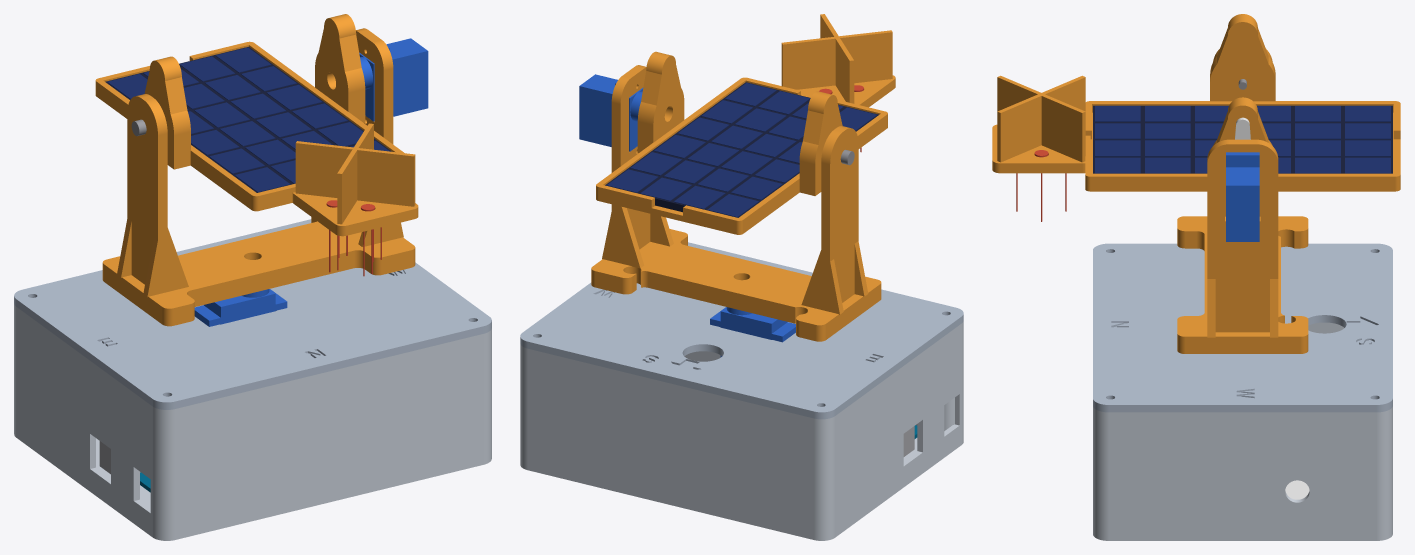
File: solar_tracker_FULL_ASSEMBLY.glb
3 views of the same model, side by side, from view 1: azimuth 30°, elevation 25°; view 2: azimuth 150°, elevation 25°; view 3: azimuth 270°, elevation 25° (orthographic). The views are drawn at different scales.
Parts seen in each view (by area): view 1: 1_base_box, 2_base_lid, 3_yoke, 4_panel_frame, solar_cells, servo_tilt_SG90, solar_panel, servo_pan_SG90; view 2: 1_base_box, 2_base_lid, 3_yoke, 4_panel_frame, solar_cells, solar_panel, servo_tilt_SG90, servo_pan_SG90; view 3: 2_base_lid, 1_base_box, 4_panel_frame, 3_yoke, solar_cells, solar_panel, servo_tilt_SG90.
Part boxes in pixels (left/top/right/bottom): 1_base_box: left=14, top=303, right=491, bottom=540; 2_base_lid: left=14, top=219, right=491, bottom=409; 3_yoke: left=102, top=28, right=415, bottom=326; 4_panel_frame: left=95, top=14, right=418, bottom=236; solar_cells: left=107, top=47, right=389, bottom=192; servo_tilt_SG90: left=359, top=38, right=428, bottom=121; solar_panel: left=105, top=46, right=391, bottom=192; servo_pan_SG90: left=194, top=289, right=287, bottom=326; 1_base_box: left=520, top=321, right=963, bottom=540; 2_base_lid: left=520, top=242, right=963, bottom=419; 3_yoke: left=591, top=65, right=881, bottom=341; 4_panel_frame: left=596, top=14, right=895, bottom=234; solar_cells: left=606, top=83, right=876, bottom=217; solar_panel: left=605, top=82, right=878, bottom=217; servo_tilt_SG90: left=579, top=74, right=643, bottom=151; servo_pan_SG90: left=710, top=307, right=795, bottom=357; 2_base_lid: left=1093, top=243, right=1392, bottom=412; 1_base_box: left=1093, top=322, right=1392, bottom=540; 4_panel_frame: left=992, top=14, right=1400, bottom=199; 3_yoke: left=1177, top=49, right=1308, bottom=353; solar_cells: left=1095, top=106, right=1390, bottom=173; solar_panel: left=1093, top=105, right=1392, bottom=173; servo_tilt_SG90: left=1226, top=152, right=1259, bottom=241.
Bounding box in the file's own units: 140 × 162 × 150.
